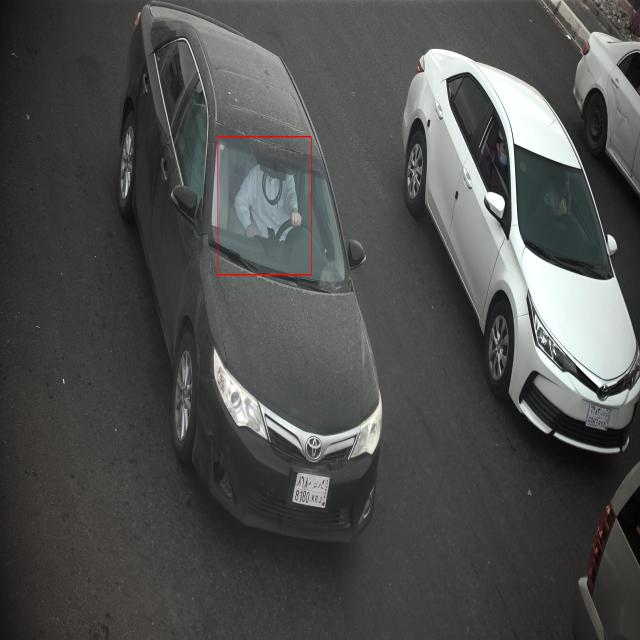windshield: (206, 125, 360, 305), (508, 140, 614, 280)
